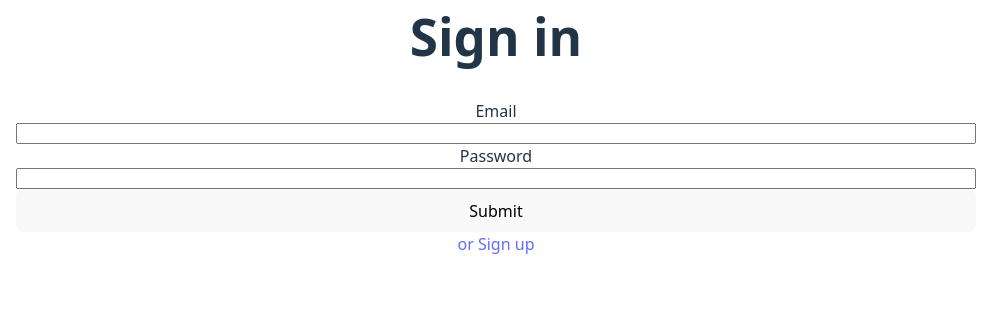
Test: Signin › clears error message when form is resubmitted
This screenshot has width=993, height=327.
Type "test@example.com" into the field labelled "Email".
click(496, 133); type("test@example.com")  # box [16, 123, 976, 144]
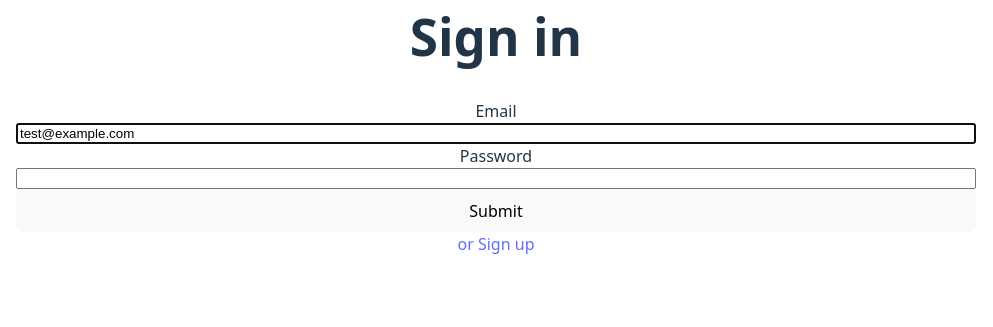
Type "wrongpassword" into the password field labelled "Password".
click(496, 178); type("wrongpassword")  # box [16, 168, 976, 189]
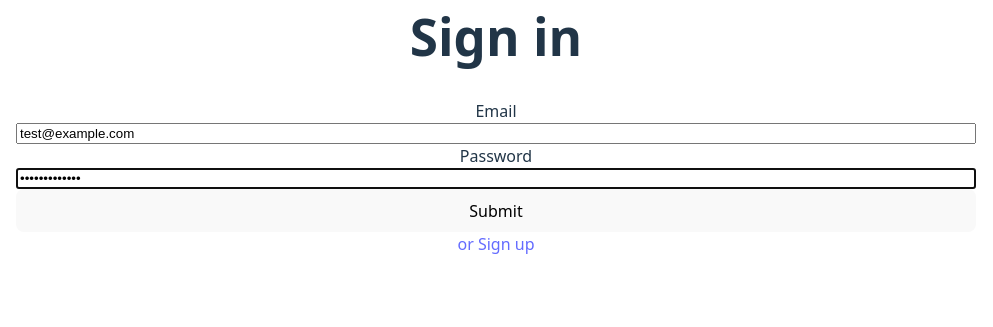
Click the button "Submit".
click(496, 210)  # box [16, 189, 976, 232]
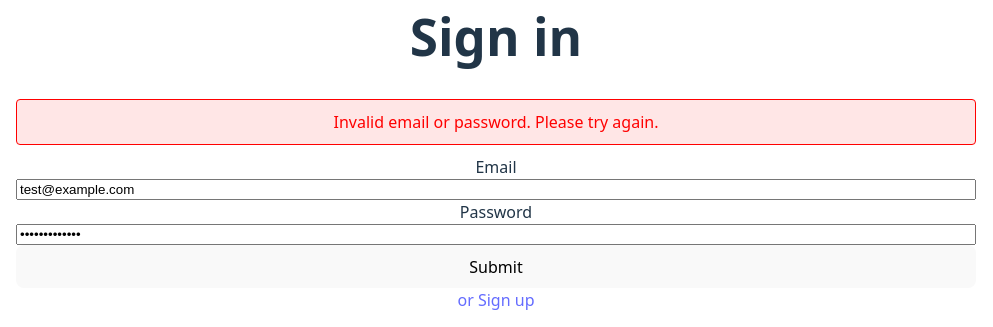
Now the text "Invalid email or password. Please try again." is shown, box [16, 99, 976, 145]
# Update password and resubmit
Type "correctpassword" into the password field labelled "Password".
click(496, 234); type("correctpassword")  # box [16, 224, 976, 245]
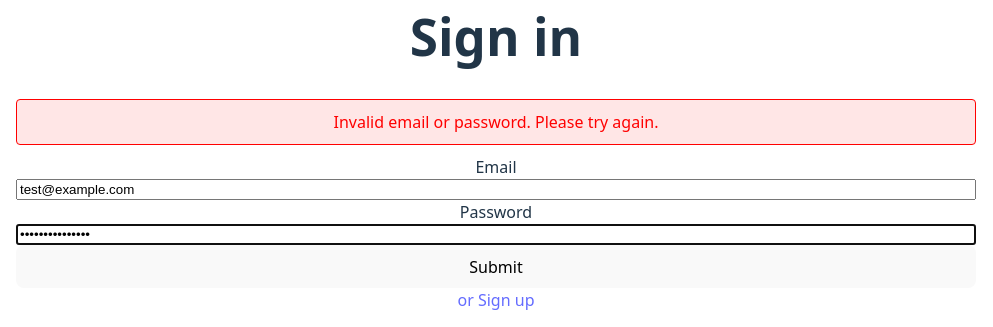
Click the button "Submit".
click(496, 266)  # box [16, 245, 976, 288]
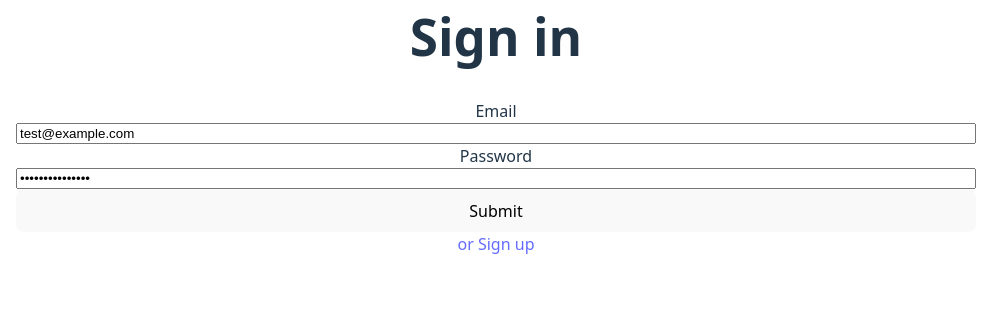
Now the text "Invalid email or password" is gone
